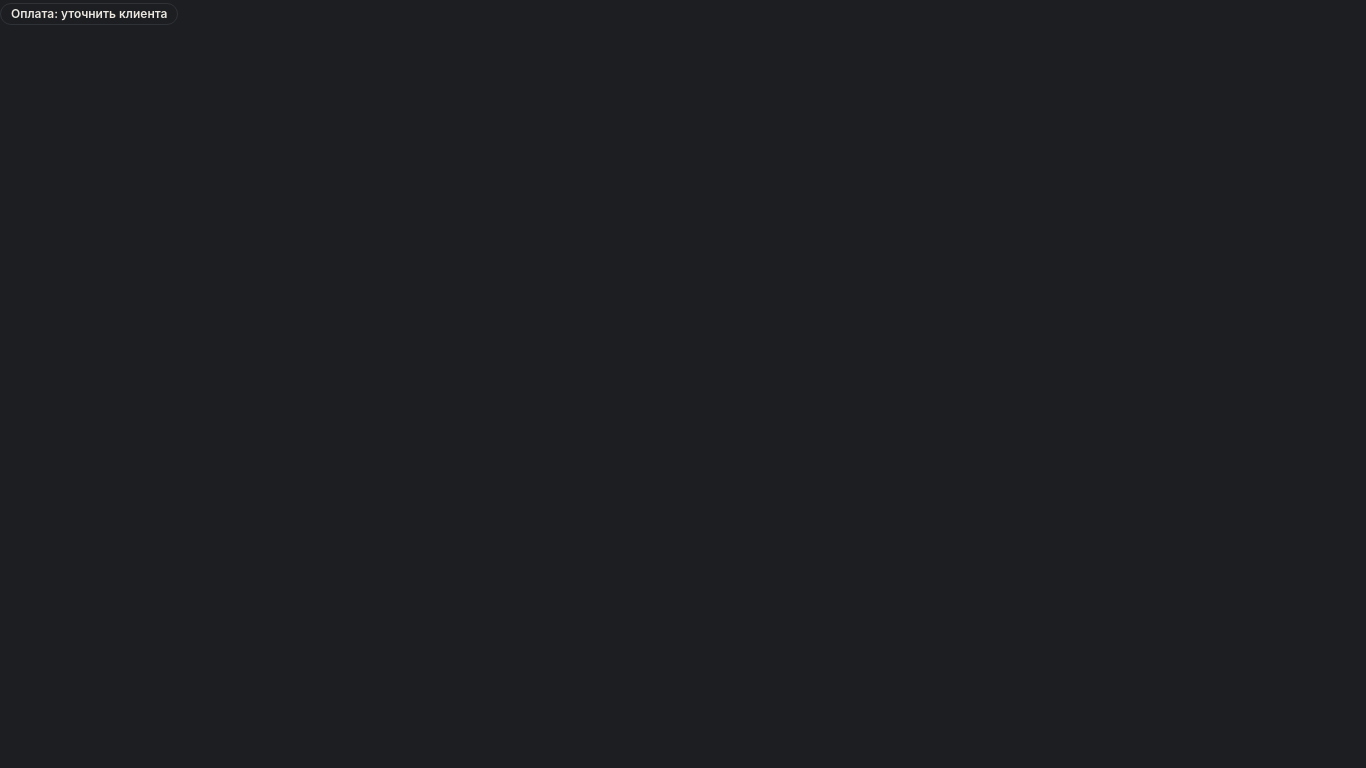
payment details CRM › does not pick one of several clients sharing the same name
This screenshot has width=1366, height=768.
What coordinates should you click on to do the following:
click the button with aria-label "Оплата: Договор №20"
I would click on:
 (89, 12)
Its box is [0,0,178,25].
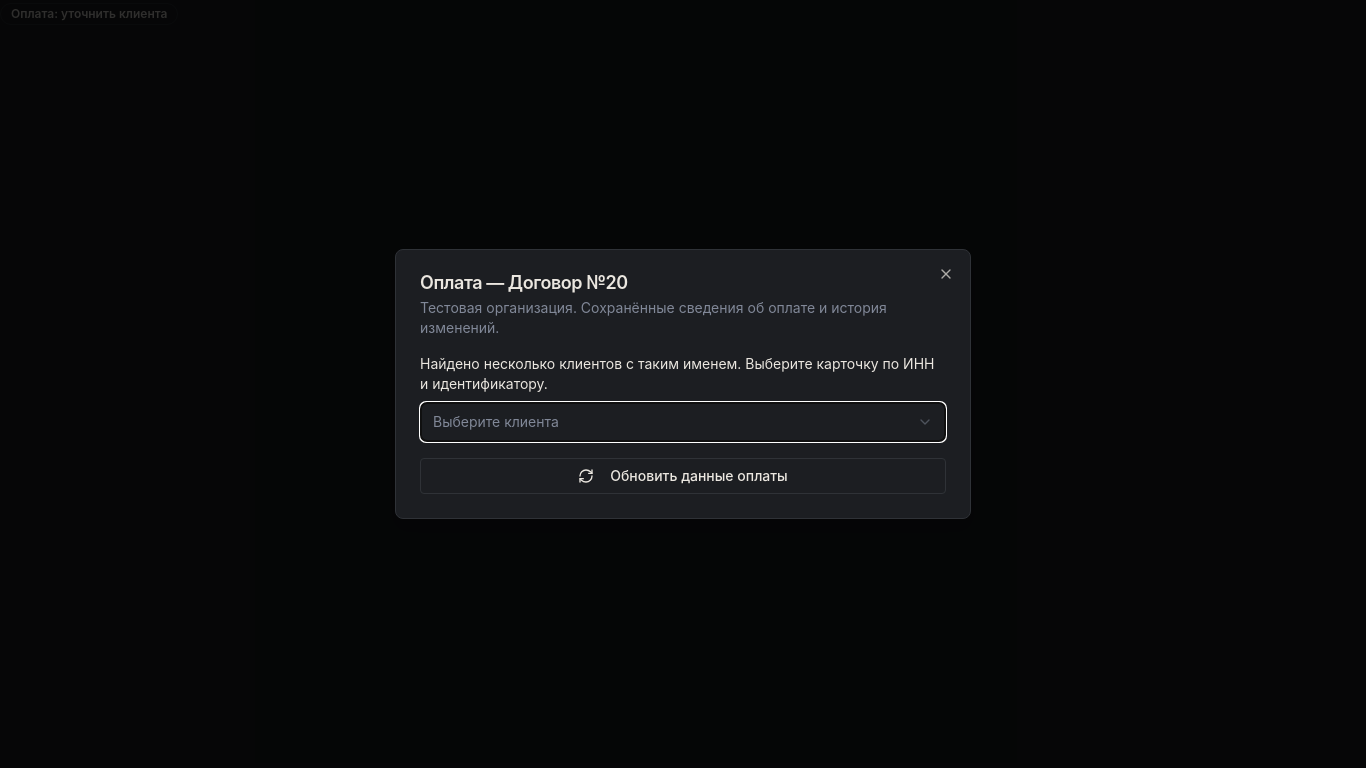
expect the text "Найдено несколько клиентов" is shown: met, box [420,355,934,392]
expect the dropdown named "Выберите клиента для проверки оплаты" is shown: met, box [420,402,946,442]
